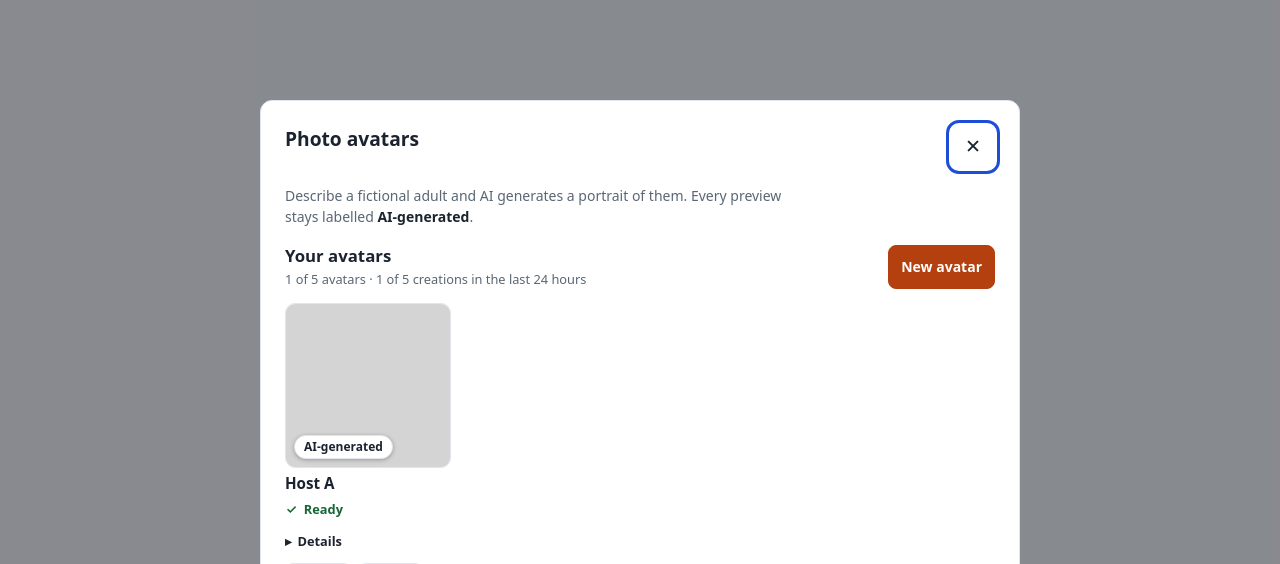
Test: creating an avatar › explains a cost_unknown_under_cap refusal and re-reads the limits
The width and height of the screenshot is (1280, 564).
Step 1. Click the button "New avatar" → [942, 267], box left=888, top=245, right=995, bottom=289
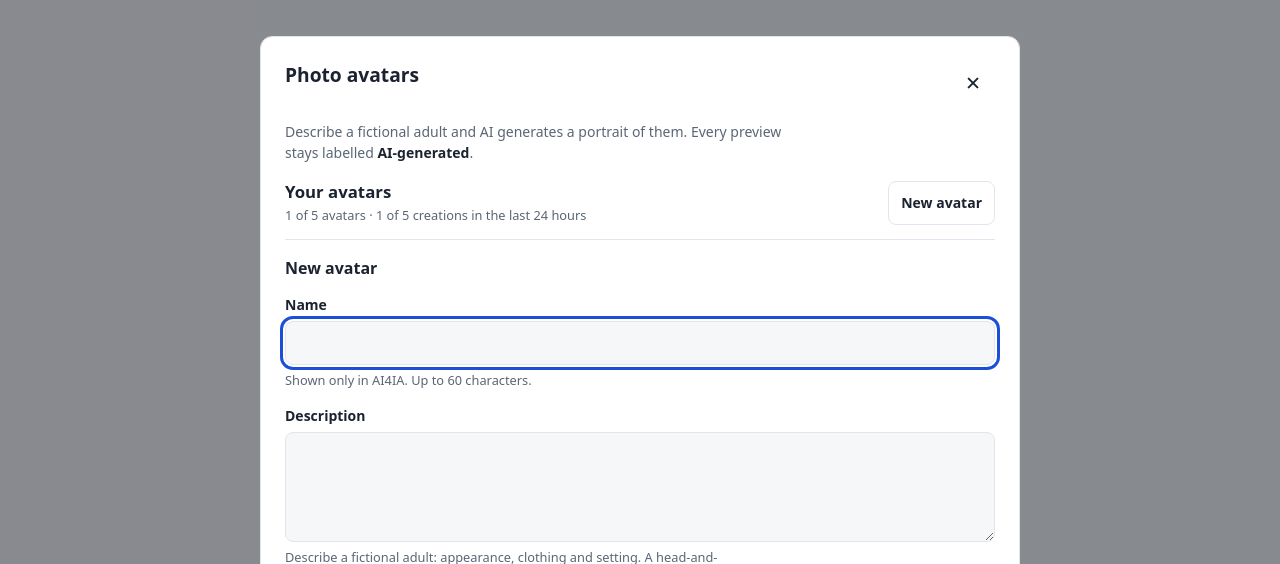
Step 2. Type "Office guide" into the field labelled "Name" → [640, 343], box left=285, top=321, right=995, bottom=365
Step 3. Type "A calm host in a blue jacket" into the text box labelled "Description" → [640, 487], box left=285, top=432, right=995, bottom=542
(page scrolled)
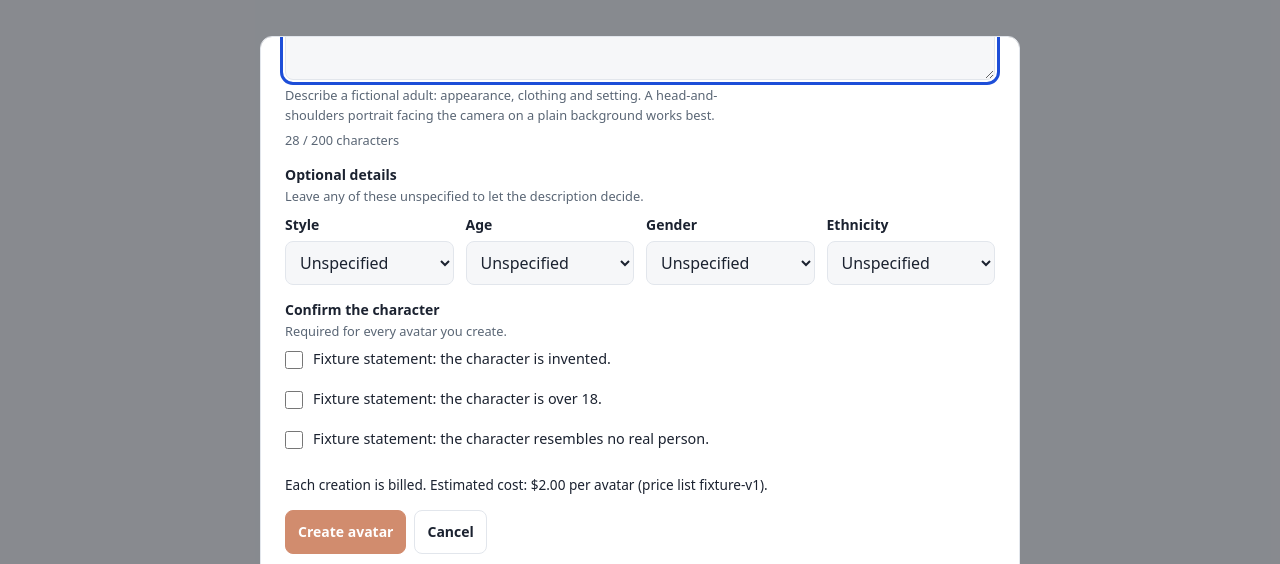
Step 4. Click the checkbox labelled "Fixture statement: the character is invented." → [294, 360], box left=285, top=351, right=303, bottom=369
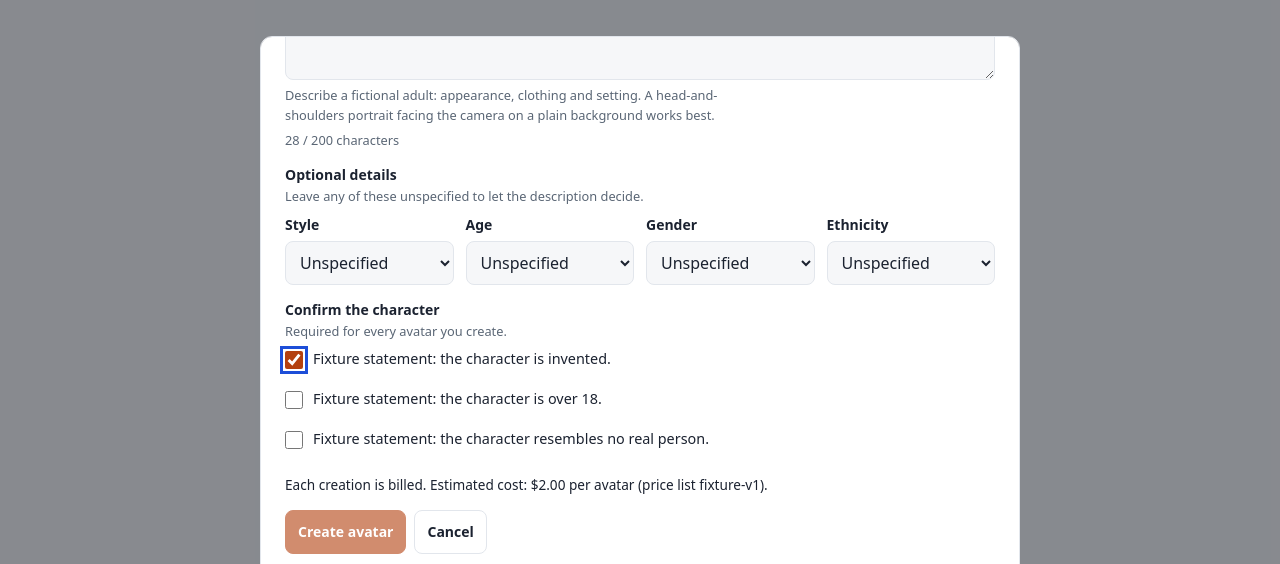
Step 5. Click the checkbox labelled "Fixture statement: the character is over 18." → [294, 400], box left=285, top=391, right=303, bottom=409
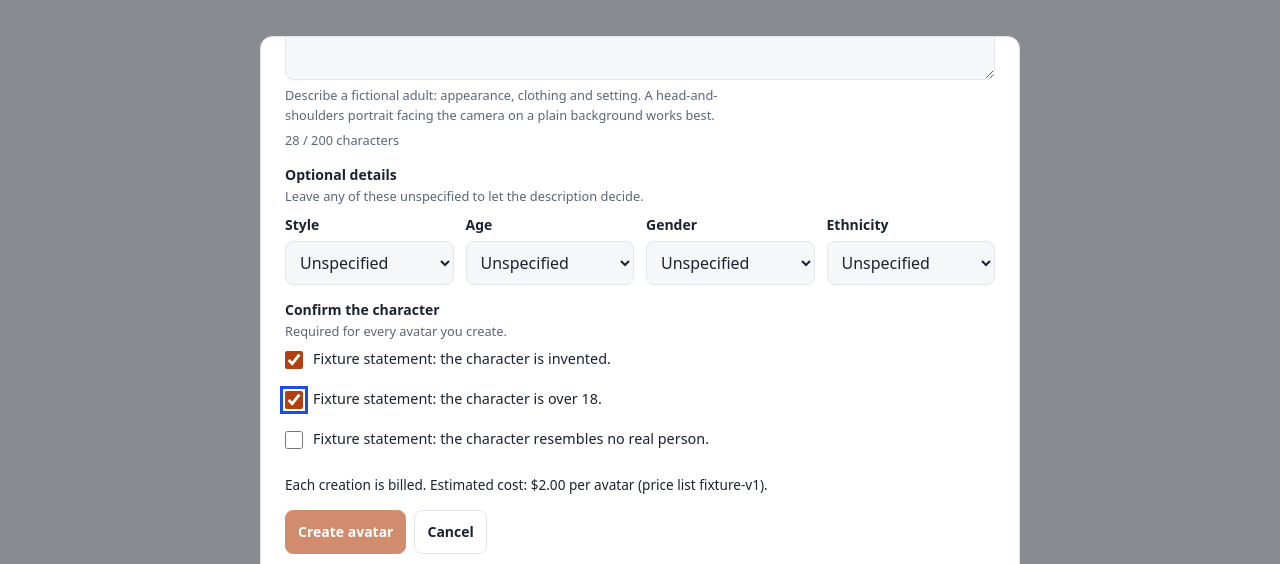
Step 6. Click the checkbox labelled "Fixture statement: the character resembles no real person." → [294, 440], box left=285, top=431, right=303, bottom=449
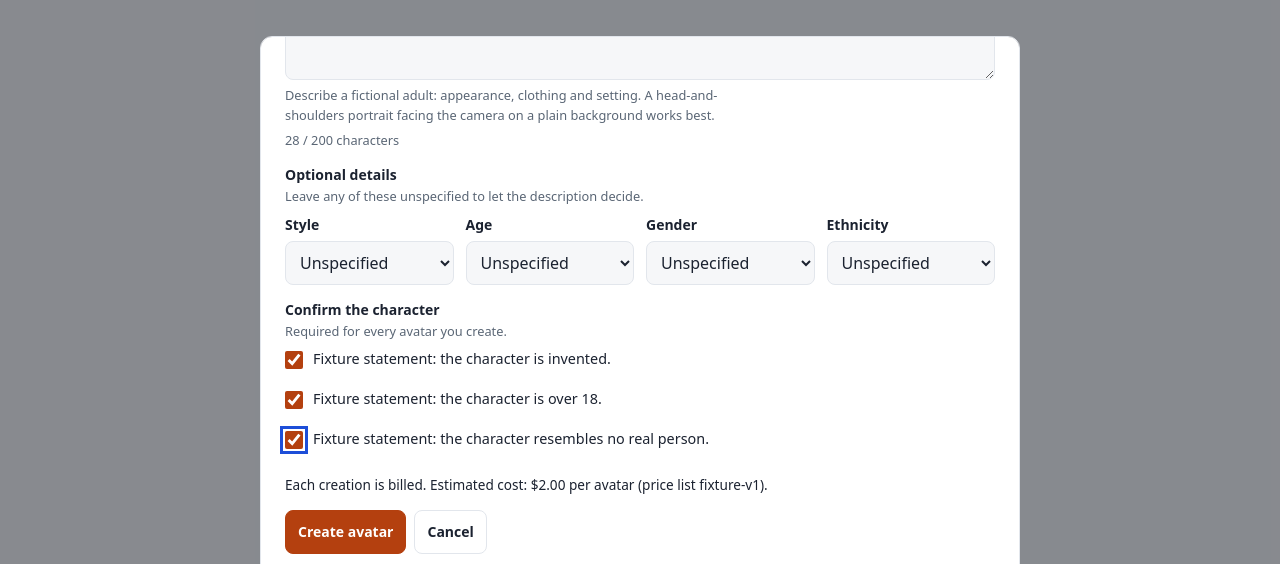
Step 7. Click the button "Create avatar" → [346, 532], box left=285, top=510, right=406, bottom=554
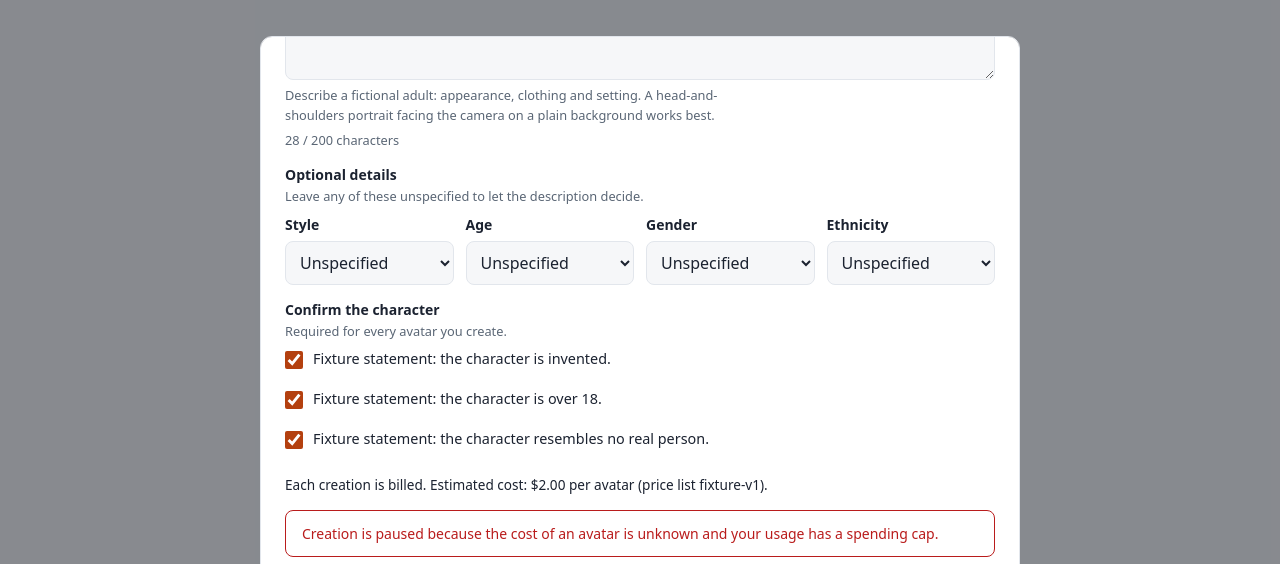
Check: the checkbox labelled "Fixture statement: the character is invented." is checked, box left=285, top=351, right=303, bottom=369
Check: the checkbox labelled "Fixture statement: the character is over 18." is checked, box left=285, top=391, right=303, bottom=409
Check: the message shows "Creation is paused because the cost of an avatar is unknown and your usage has a spending cap.", box left=302, top=524, right=938, bottom=543
